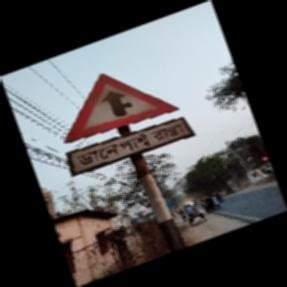Side-road-right: (63, 72, 192, 182)
